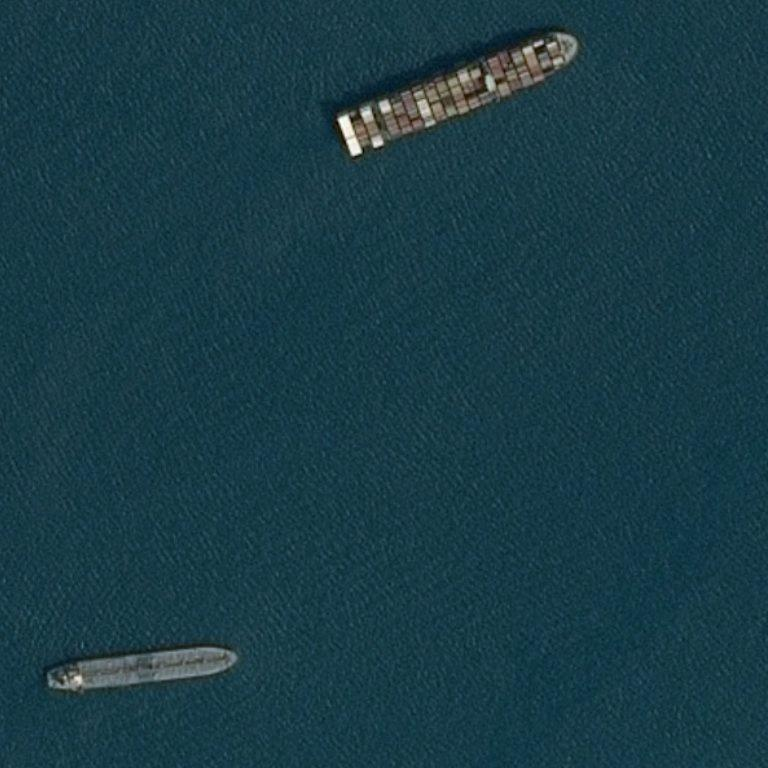ship: (333, 13, 590, 161), (64, 636, 223, 697)
